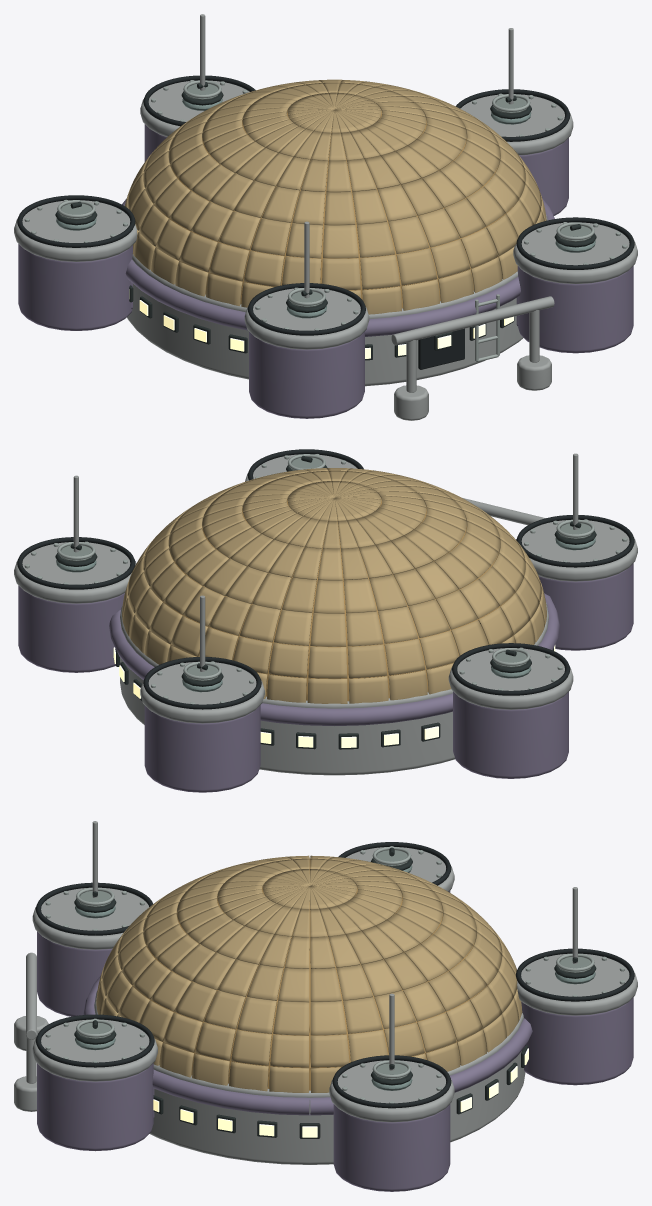
3 views of the same model, one above another, from view 1: azimuth 30°, elevation 25°; view 2: azimuth 150°, elevation 25°; view 3: azimuth 270°, elevation 25° (orthographic).
Parts seen in each view (by area): view 1: CPU command dome segmented skin, CPU central drum, CPU peripheral pod.003, CPU peripheral pod.002, CPU peripheral pod.004, CPU equatorial rim, CPU pod roof.003, CPU pod roof.004, CPU pod roof.002, CPU pod roof, CPU gold command dome, CPU peripheral pod (+10 smaller); view 2: CPU command dome segmented skin, CPU central drum, CPU peripheral pod.001, CPU peripheral pod.002, CPU peripheral pod, CPU peripheral pod.003, CPU equatorial rim, CPU pod roof.002, CPU pod roof.001, CPU pod roof, CPU pod roof.003, CPU gold command dome (+7 smaller); view 3: CPU command dome segmented skin, CPU central drum, CPU peripheral pod, CPU peripheral pod.004, CPU peripheral pod.001, CPU equatorial rim, CPU pod roof, CPU pod roof.004, CPU pod roof.001, CPU peripheral pod.003, CPU pod roof.003, CPU gold command dome (+8 smaller).
Part boxes in pixels (box(x1,y1,x2,y2)): CPU command dome segmented skin: box(124, 79, 546, 314); CPU central drum: box(127, 214, 547, 386); CPU peripheral pod.003: box(249, 331, 364, 418); CPU peripheral pod.002: box(18, 244, 132, 330); CPU peripheral pod.004: box(517, 266, 633, 353); CPU equatorial rim: box(122, 198, 554, 336); CPU pod roof.003: box(244, 288, 369, 349); CPU pod roof.004: box(513, 222, 637, 284); CPU pod roof.002: box(14, 200, 137, 261); CPU pod roof: box(460, 94, 573, 155); CPU gold command dome: box(152, 87, 516, 308); CPU peripheral pod: box(519, 138, 568, 215); CPU command dome segmented skin: box(122, 468, 546, 703); CPU central drum: box(120, 602, 548, 775); CPU peripheral pod.001: box(144, 705, 260, 792); CPU peripheral pod.002: box(453, 691, 568, 778); CPU peripheral pod: box(18, 585, 124, 672); CPU peripheral pod.003: box(538, 563, 633, 650); CPU equatorial rim: box(109, 593, 559, 725); CPU pod roof.002: box(448, 648, 573, 709); CPU pod roof.001: box(140, 662, 264, 723); CPU pod roof: box(14, 542, 136, 603); CPU pod roof.003: box(516, 520, 637, 581); CPU gold command dome: box(152, 475, 516, 701); CPU command dome segmented skin: box(96, 855, 522, 1092); CPU central drum: box(94, 991, 525, 1164); CPU peripheral pod: box(333, 1104, 450, 1191); CPU peripheral pod.004: box(37, 1063, 153, 1151); CPU peripheral pod.001: box(521, 997, 633, 1085); CPU equatorial rim: box(83, 975, 532, 1115); CPU pod roof: box(329, 1060, 454, 1122); CPU pod roof.004: box(32, 1019, 157, 1081); CPU pod roof.001: box(517, 953, 637, 1015); CPU peripheral pod.003: box(37, 931, 112, 1016); CPU pod roof.003: box(32, 887, 148, 949); CPU gold command dome: box(126, 858, 492, 1090).
Size of the model in its own units: 4.32 by 1.44 by 4.28.
